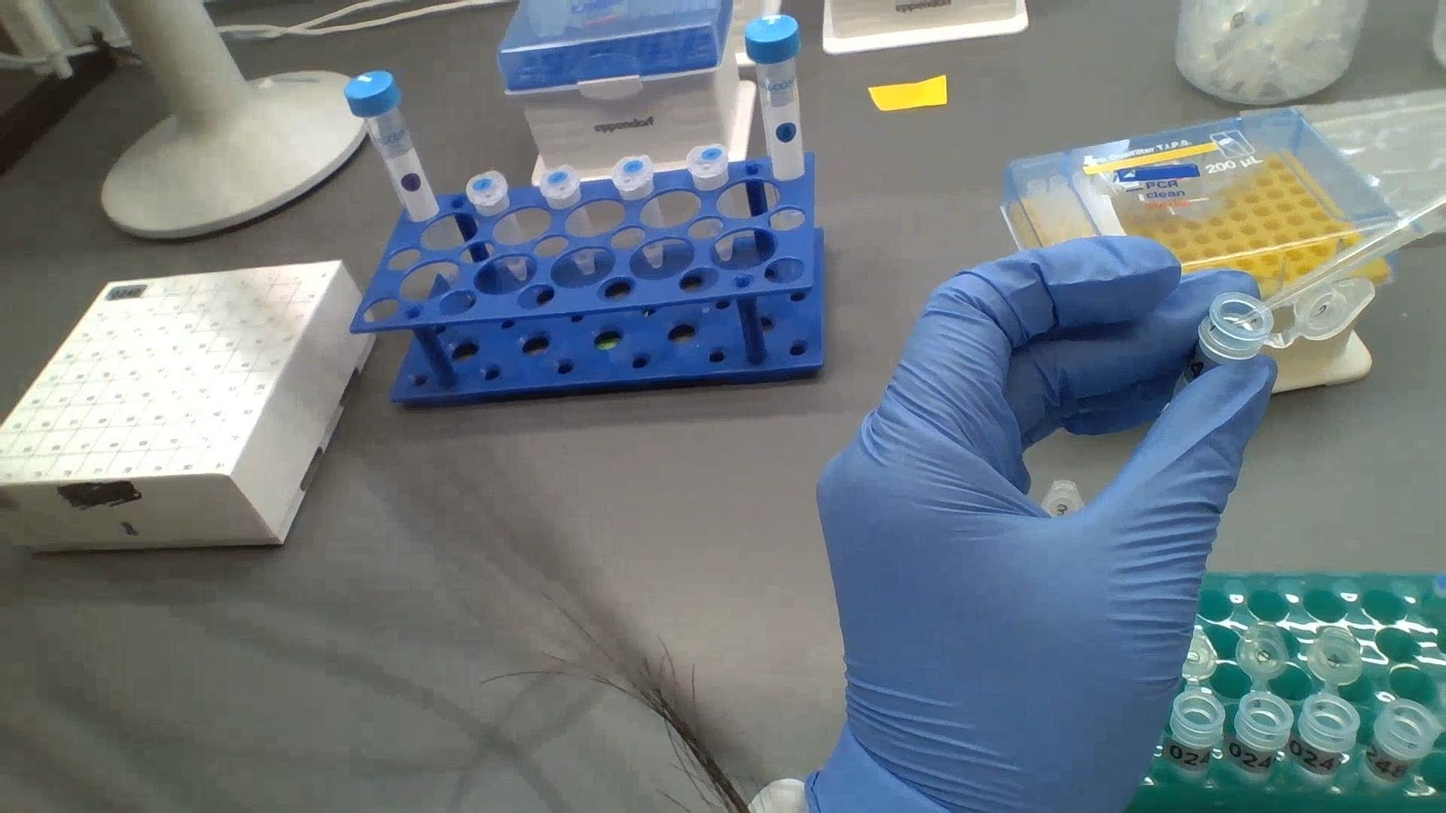pipette: (1235, 202, 1443, 320)
